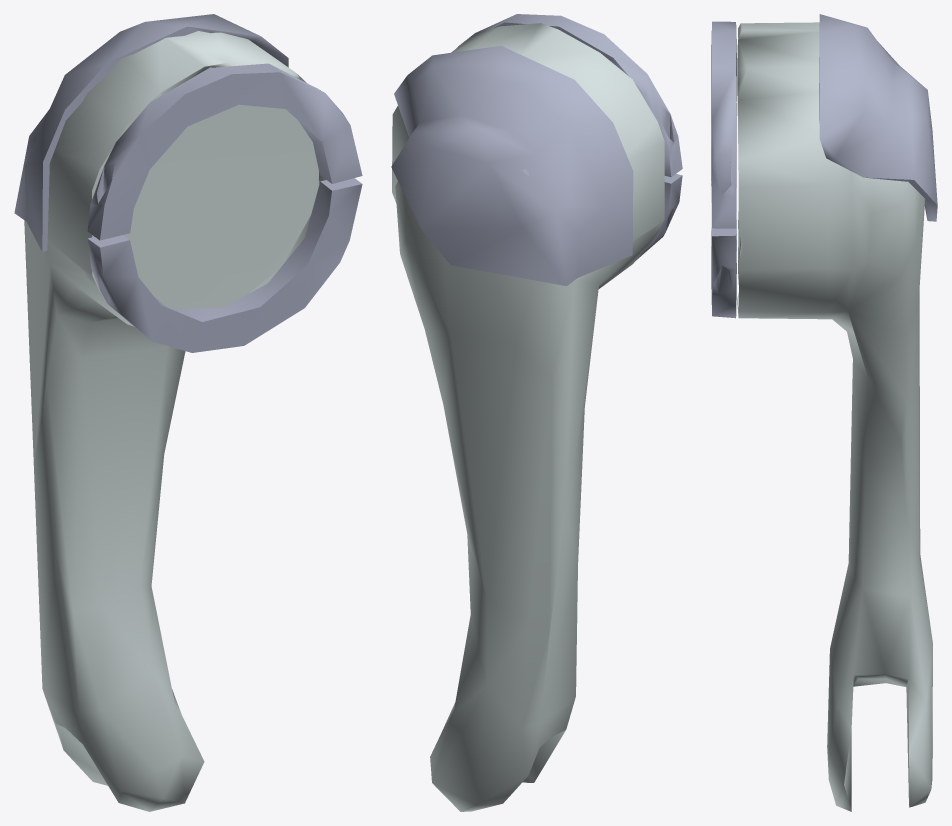
File: thigh_dae.dae
The picture shows the model from 3 angles, left to right: view 1: azimuth 30°, elevation 25°; view 2: azimuth 150°, elevation 25°; view 3: azimuth 270°, elevation 25°; orthographic projection. The views are drawn at different scales.
Parts seen in each view (by area): view 1: thigh_dae; view 2: thigh_dae; view 3: thigh_dae.
Part boxes in pixels (x1,y1,x2,y2): thigh_dae: [14, 14, 362, 811]; thigh_dae: [391, 14, 682, 811]; thigh_dae: [711, 14, 937, 811].
Bounding box in the file's own units: 0.0968 × 0.0734 × 0.2779.
